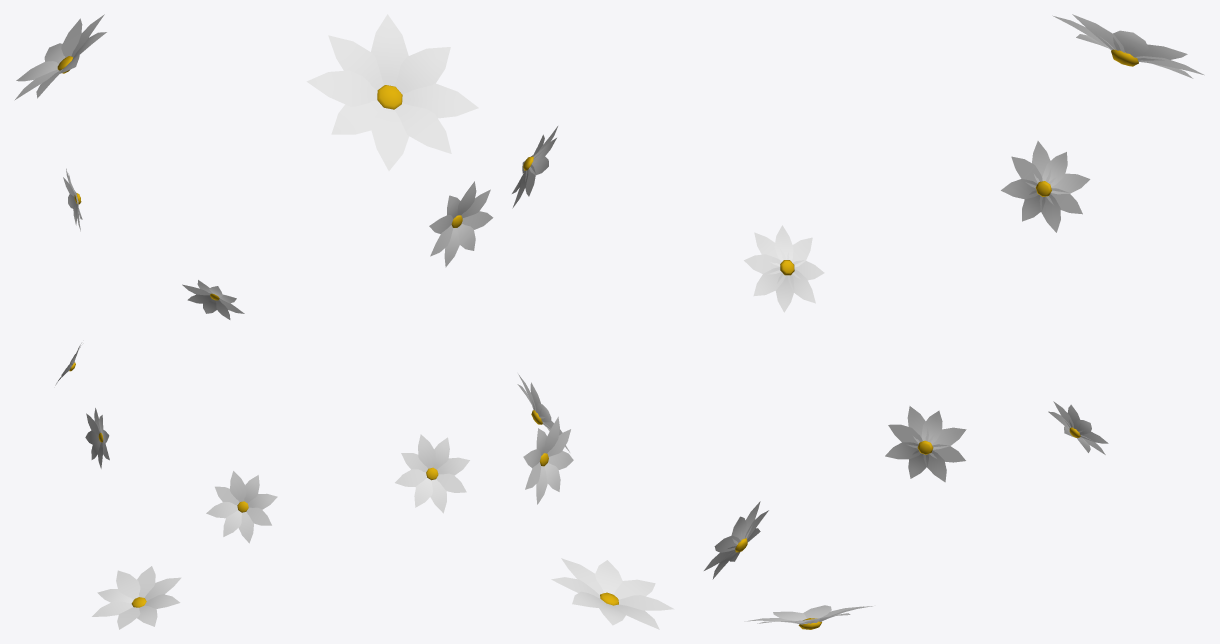
The model's file is flores.obj.
The picture shows the model from 3 angles, left to right: view 1: azimuth 30°, elevation 25°; view 2: azimuth 150°, elevation 25°; view 3: azimuth 270°, elevation 25°; orthographic projection. The views are drawn at different scales.
Parts seen in each view (by area): view 1: Vertex.006, Vertex.004, Vertex.005, Vertex, Vertex.002, Vertex.001; view 2: Vertex.005, Vertex.006, Vertex.003, Vertex.001, Vertex.002, Vertex, Vertex.004; view 3: Vertex.001, Vertex, Vertex.002, Vertex.005, Vertex.004, Vertex.006, Vertex.003.
Part boxes in pixels (x1,y1,x2,y2): Vertex.006: (92,566,181,629); Vertex.004: (206,471,277,543); Vertex.005: (14,14,106,100); Vertex: (182,280,244,319); Vertex.002: (85,408,109,468); Vertex.001: (63,168,82,231); Vertex.005: (306,14,478,170); Vertex.006: (551,558,674,629); Vertex.003: (395,434,469,513); Vertex.001: (429,181,493,267); Vertex.002: (523,416,573,504); Vertex: (512,126,557,208); Vertex.004: (517,374,569,452); Vertex.001: (1001,141,1090,232); Vertex: (744,225,824,312); Vertex.002: (885,406,966,482); Vertex.005: (1052,14,1204,78); Vertex.004: (704,501,768,579); Vertex.006: (744,605,872,629); Vertex.003: (1048,401,1108,454).
Size of the model in its own units: 0.6495 by 2.1 by 1.44.
Materials: 7 (7 with a texture image).
